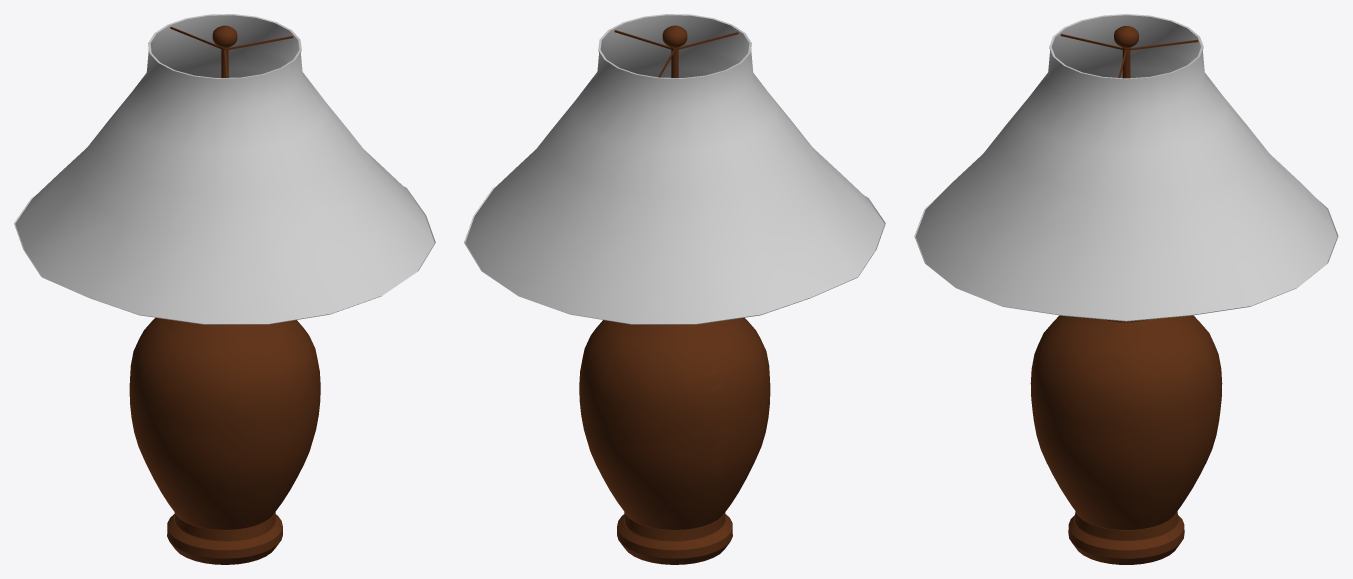
File: lamp.glb
3 renders of one model, left to right at view 1: azimuth 30°, elevation 25°; view 2: azimuth 150°, elevation 25°; view 3: azimuth 270°, elevation 25°, orthographic.
Visible parts, largest first — view 1: pCone1, pCube2; view 2: pCone1, pCube2; view 3: pCone1, pCube2.
Part boxes in pixels (bbox=[...]): pCone1: bbox=[14, 14, 435, 324]; pCube2: bbox=[129, 25, 320, 564]; pCone1: bbox=[464, 14, 885, 324]; pCube2: bbox=[579, 25, 770, 564]; pCone1: bbox=[914, 14, 1338, 321]; pCube2: bbox=[1030, 26, 1222, 564].
Size of the model in its own units: 0.5516 by 0.7439 by 0.5543.
